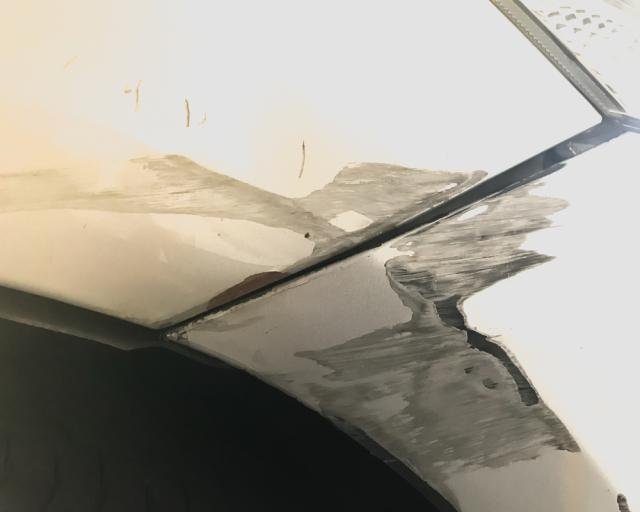scratch: (294, 160, 584, 512), (0, 149, 489, 274)
